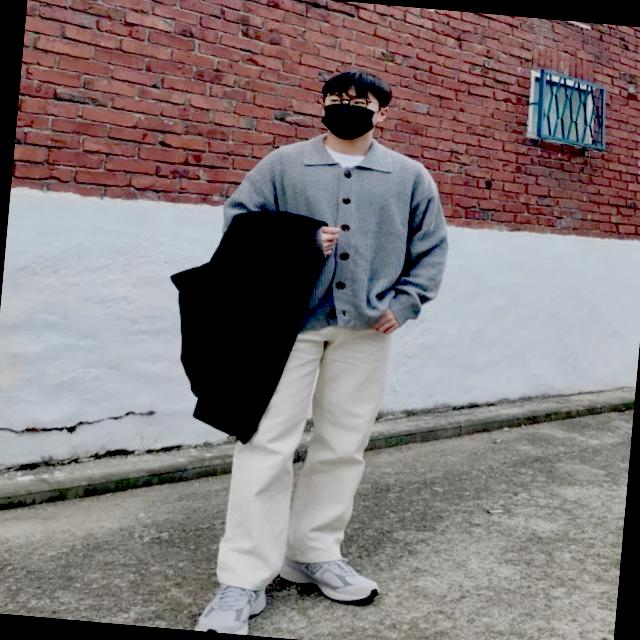cardigan: (211, 120, 458, 342)
cottonpants: (215, 318, 394, 596)
